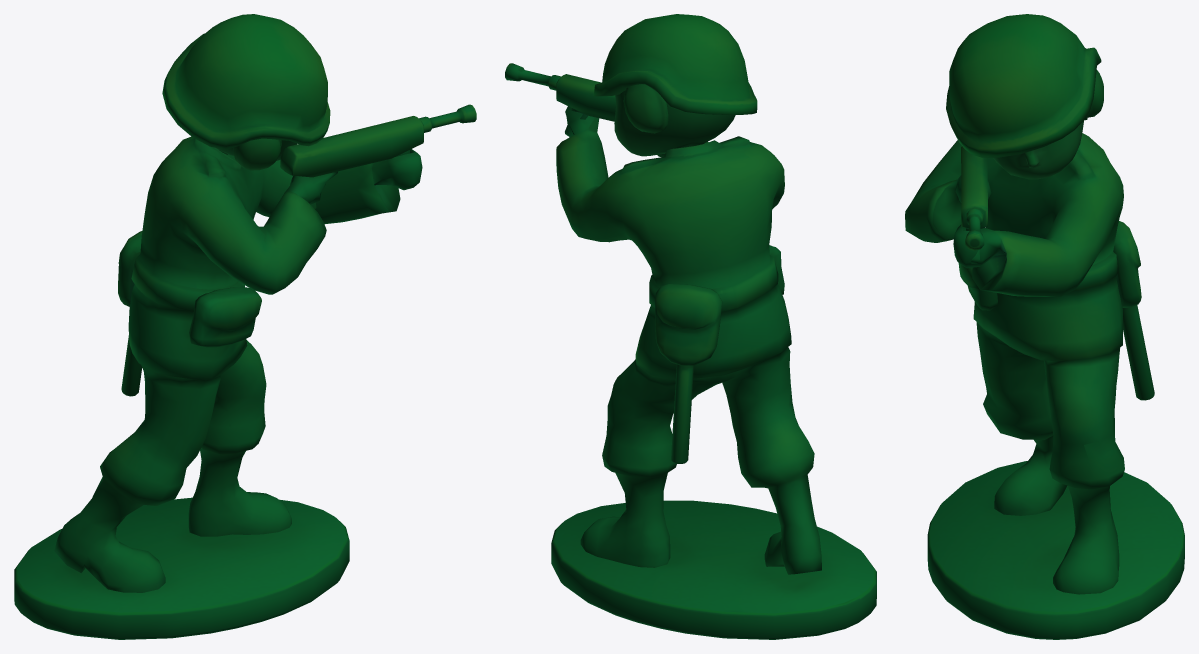
File: BingRen.FBX
3 renders of one model, left to right at view 1: azimuth 30°, elevation 25°; view 2: azimuth 150°, elevation 25°; view 3: azimuth 270°, elevation 25°, orthographic. The views are drawn at different scales.
Parts seen in each view (by area): view 1: BingRen; view 2: BingRen; view 3: BingRen.
Part boxes in pixels (x1,y1,x2,y2): BingRen: (14,14,476,639); BingRen: (505,14,876,639); BingRen: (905,14,1184,639).
Bounding box in the file's own units: 83.27 × 109 × 48.4.
Materials: 1 (1 with a texture image).
